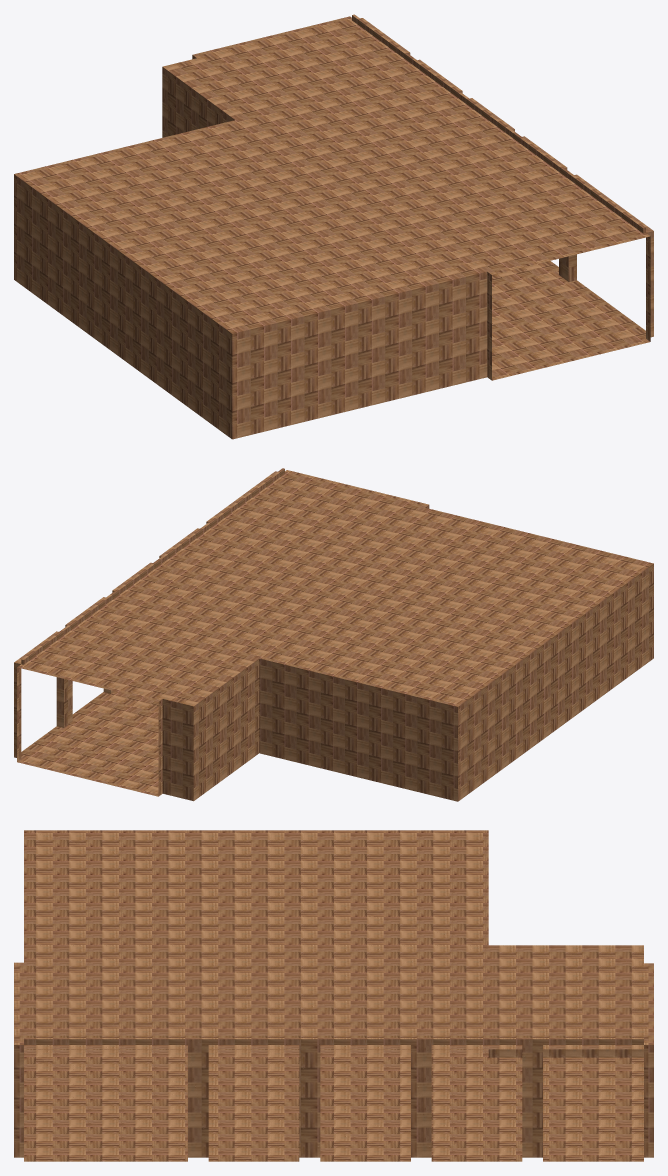
The model's file is buildOne.FBX.
3 views of the same model, one above another, from view 1: azimuth 30°, elevation 25°; view 2: azimuth 150°, elevation 25°; view 3: azimuth 270°, elevation 25° (orthographic). The views are drawn at different scales.
Parts seen in each view (by area): view 1: Box012; view 2: Box012; view 3: Box012.
Part boxes in pixels (x1,y1,x2,y2): Box012: (14, 14, 653, 439); Box012: (14, 468, 653, 801); Box012: (14, 830, 653, 1161).
Bounding box in the file's own units: 12531 × 3151 × 15472.
